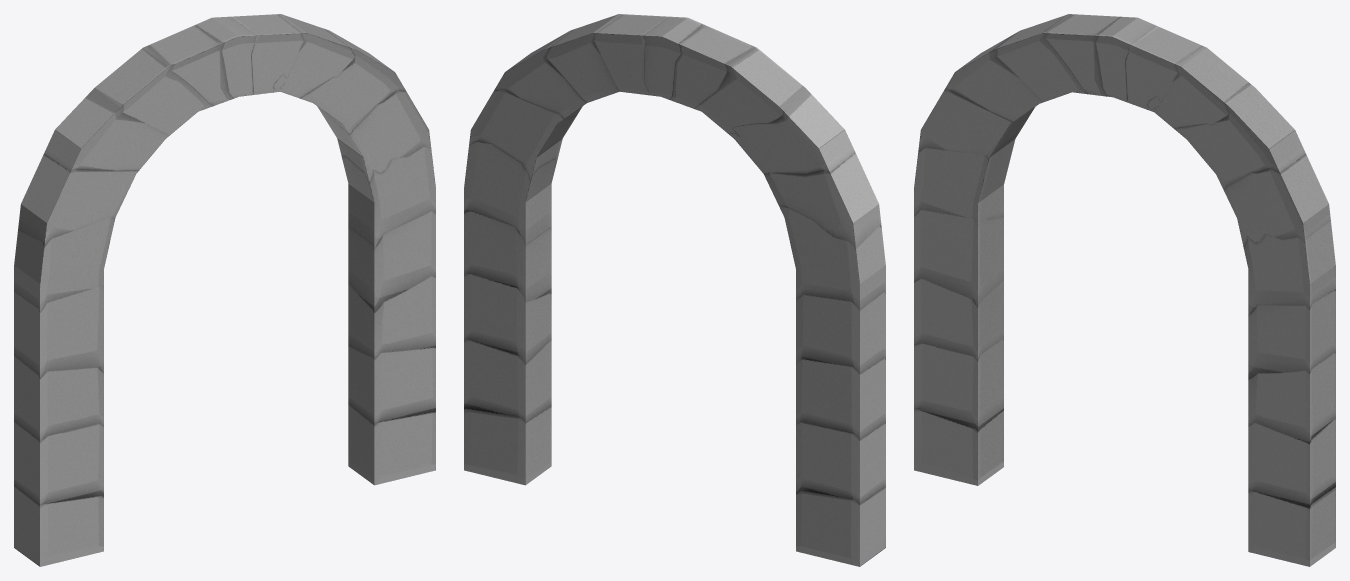
The model's file is ArchwayTall.fbx.
The picture shows the model from 3 angles, left to right: view 1: azimuth 30°, elevation 25°; view 2: azimuth 150°, elevation 25°; view 3: azimuth 330°, elevation 25°; orthographic projection.
Parts seen in each view (by area): view 1: ArchwayStone1.001; view 2: ArchwayStone1.001; view 3: ArchwayStone1.001.
Boxes of the visible parts, x1=… form: ArchwayStone1.001: x1=14, y1=14, x2=435, y2=566; ArchwayStone1.001: x1=464, y1=14, x2=885, y2=566; ArchwayStone1.001: x1=914, y1=14, x2=1335, y2=566.
Bounding box in the file's own units: 293 × 341 × 33.34.
